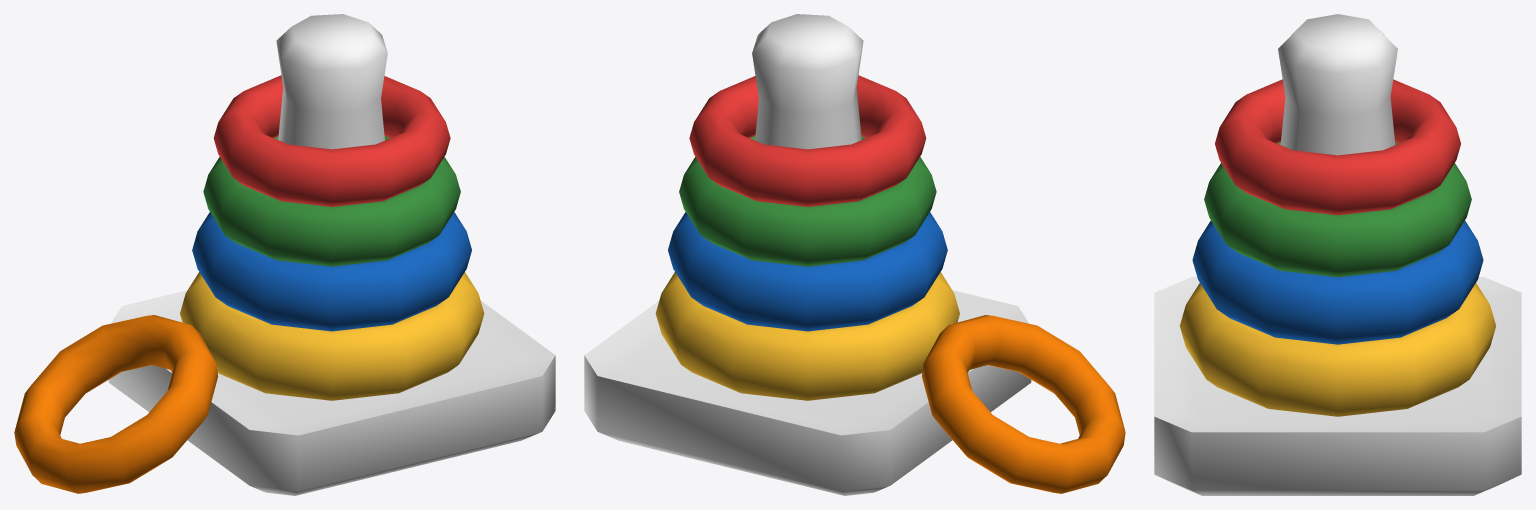
Rendered from Ring.FBX.
3 views of the same model, side by side, from view 1: azimuth 30°, elevation 25°; view 2: azimuth 150°, elevation 25°; view 3: azimuth 270°, elevation 25° (orthographic). The views are drawn at different scales.
Visible parts, largest first — view 1: Ring; view 2: Ring; view 3: Ring.
Part boxes in pixels (x1,y1,x2,y2): Ring: (14, 14, 555, 495); Ring: (584, 14, 1125, 495); Ring: (1154, 14, 1521, 495).
Bounding box in the file's own units: 184 × 149 × 124.
